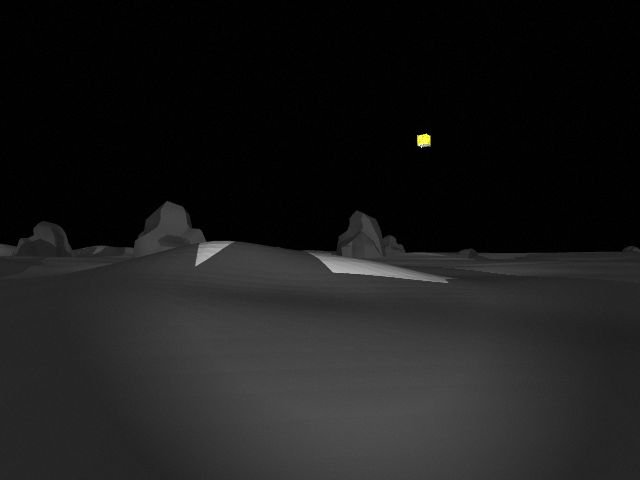cubesat: (415, 131, 434, 151)
